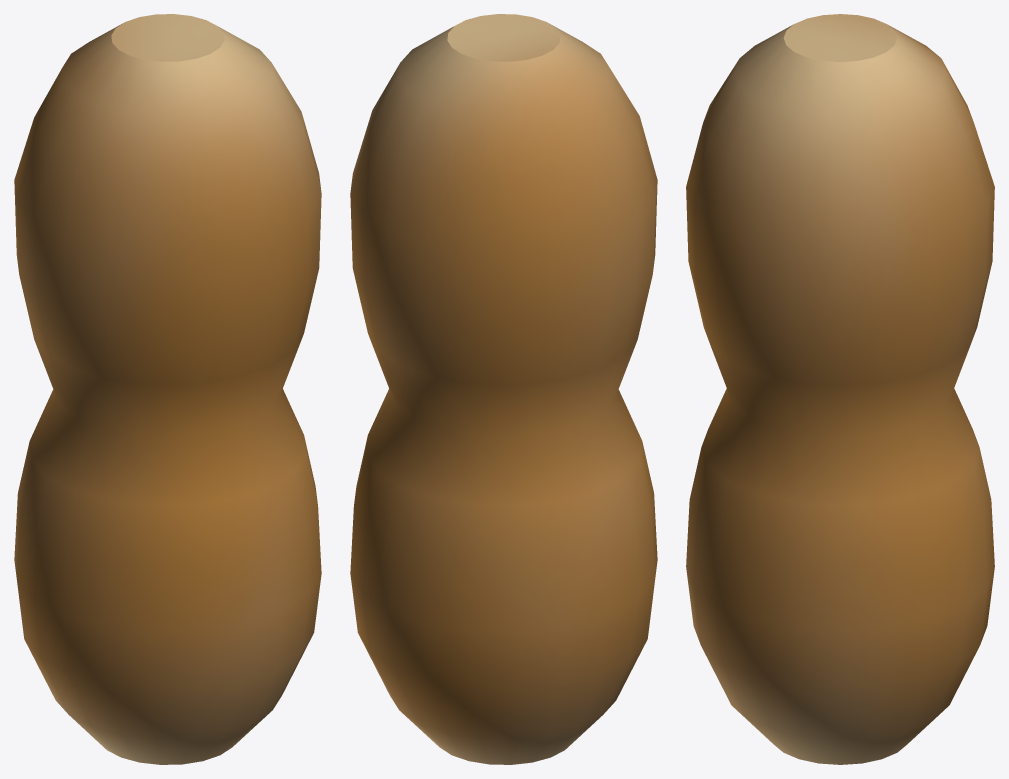
The model's file is cracker.fbx.
The picture shows the model from 3 angles, left to right: view 1: azimuth 30°, elevation 25°; view 2: azimuth 150°, elevation 25°; view 3: azimuth 270°, elevation 25°; orthographic projection.
Visible parts, largest first — view 1: pCylinder1; view 2: pCylinder1; view 3: pCylinder1.
Part boxes in pixels (bbox=[...]): pCylinder1: bbox=[14, 14, 321, 764]; pCylinder1: bbox=[350, 14, 657, 764]; pCylinder1: bbox=[686, 14, 994, 764].
Bounding box in the file's own units: 13.34 × 33.24 × 13.34.
